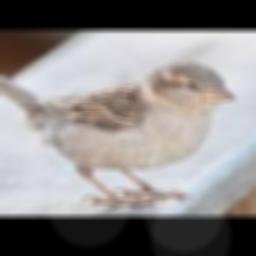Sparrow: (0, 61, 236, 204)
